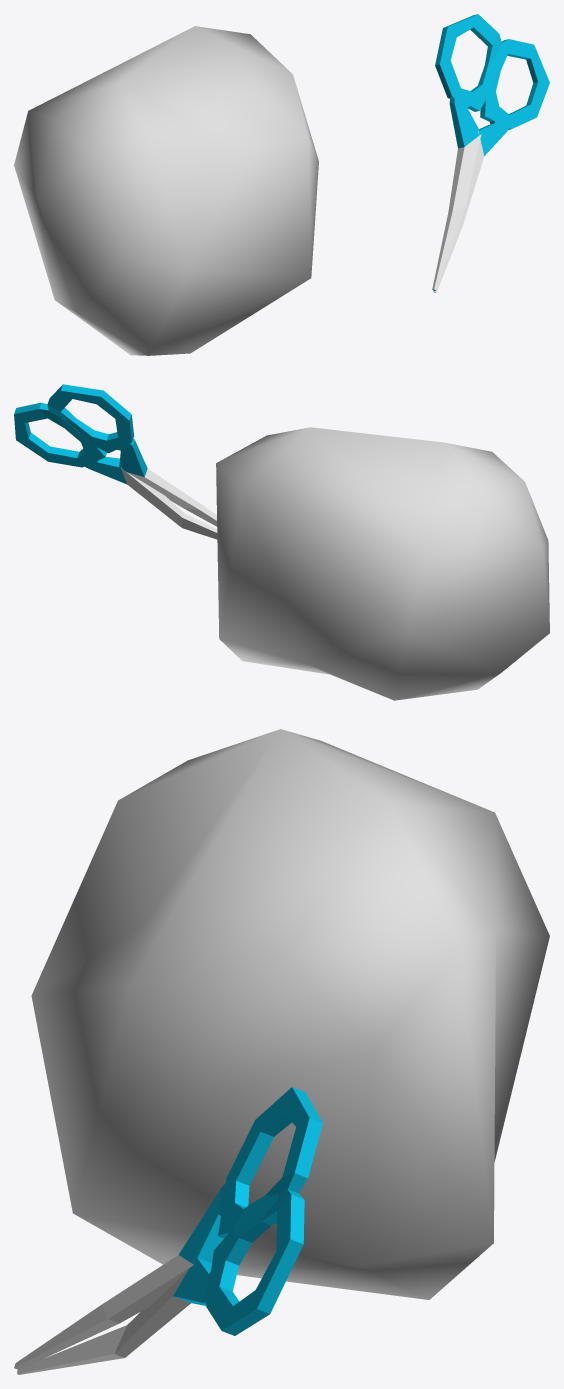
File: RockNScissors.fbx
The picture shows the model from 3 angles, top to bottom: view 1: azimuth 30°, elevation 25°; view 2: azimuth 150°, elevation 25°; view 3: azimuth 270°, elevation 25°; orthographic projection. The views are drawn at different scales.
Visible parts, largest first — view 1: rock, scissors; view 2: rock, scissors; view 3: rock, scissors.
Boxes of the visible parts, left/top/right/bottom form: rock: left=14, top=26, right=318, bottom=355; scissors: left=432, top=14, right=549, bottom=292; rock: left=216, top=427, right=549, bottom=700; scissors: left=14, top=384, right=217, bottom=539; rock: left=31, top=729, right=549, bottom=1299; scissors: left=14, top=1087, right=322, bottom=1374.
Size of the model in its own units: 211 by 104 by 101.
